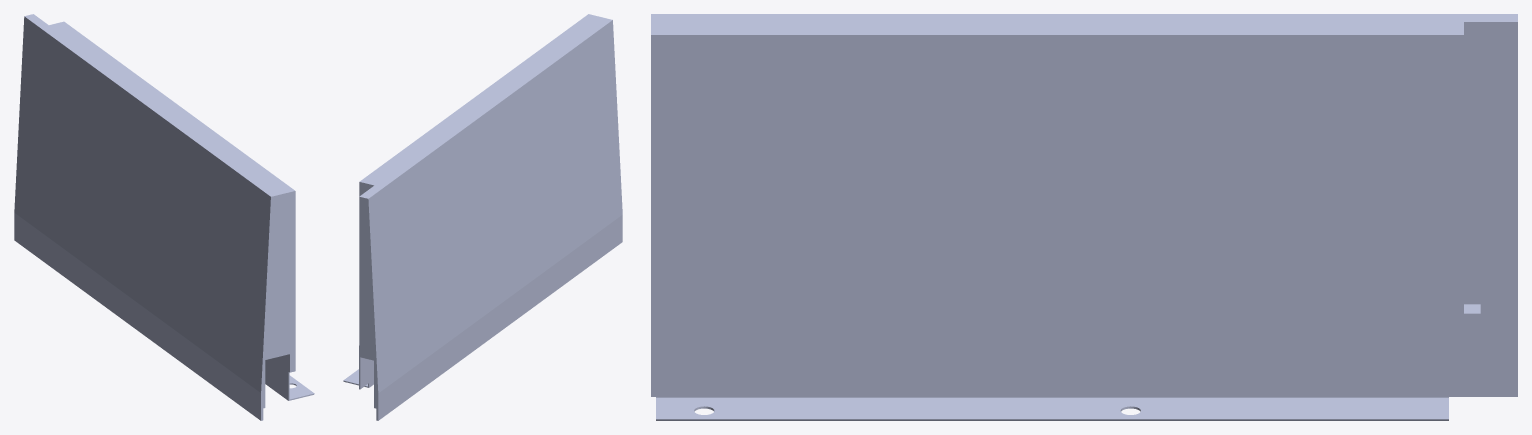
The model's file is mv-kava-K270-p.glb.
The picture shows the model from 3 angles, left to right: view 1: azimuth 30°, elevation 25°; view 2: azimuth 150°, elevation 25°; view 3: azimuth 270°, elevation 25°; orthographic projection. The views are drawn at different scales.
Visible parts, largest first — view 1: 42034061; view 2: 42034061; view 3: 42034061.
Boxes of the visible parts, x1,y1,x2,y2 form: 42034061: (14,14,314,420); 42034061: (343,14,622,420); 42034061: (651,14,1517,420).
Bounding box in the file's own units: 0.0335 × 0.129 × 0.2602.
